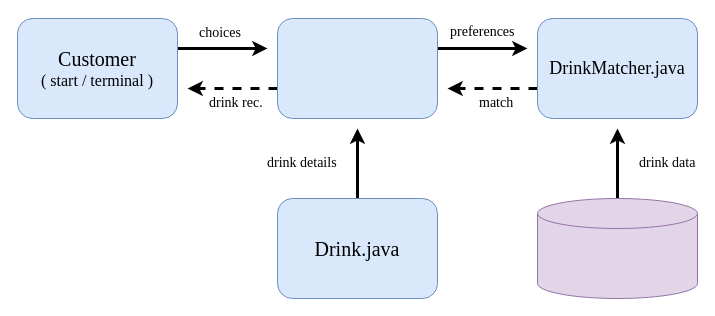
Some shapes in this 715 by 316 pixel diagram are drawn without their labels. The centre of each missing label's shape, as x and y in pixels:
drinks.csv: [617,248]
Main.java: [357,68]
